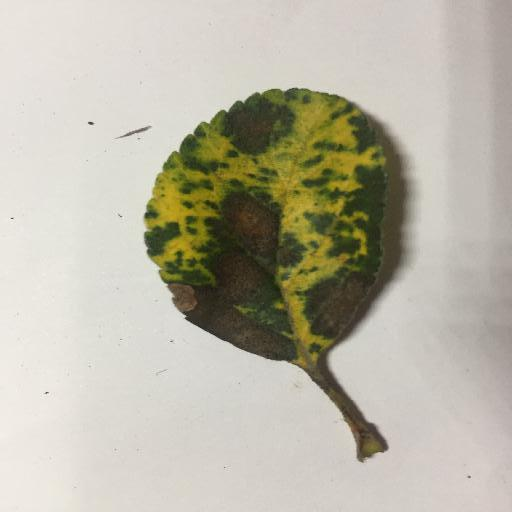Brown_Spot: (180, 289, 294, 359), (217, 250, 275, 301), (316, 274, 362, 335), (225, 196, 277, 247), (229, 114, 281, 143)
